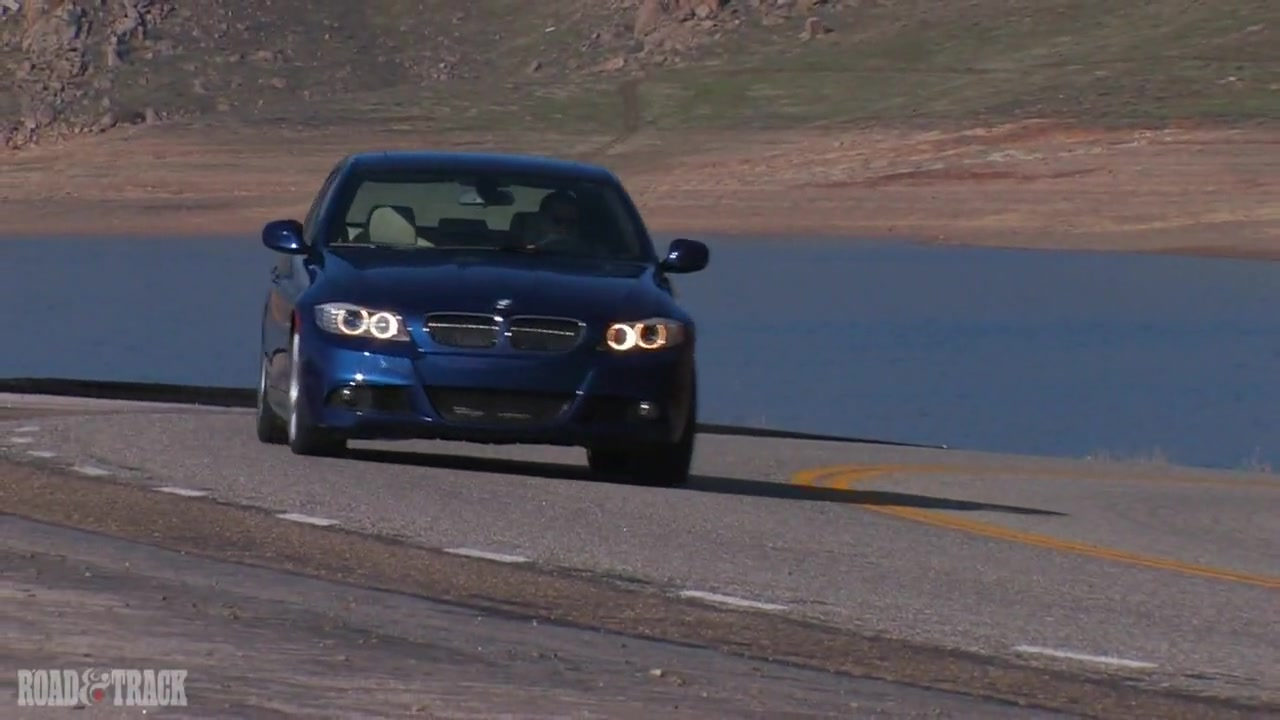car: (261, 149, 712, 487)
